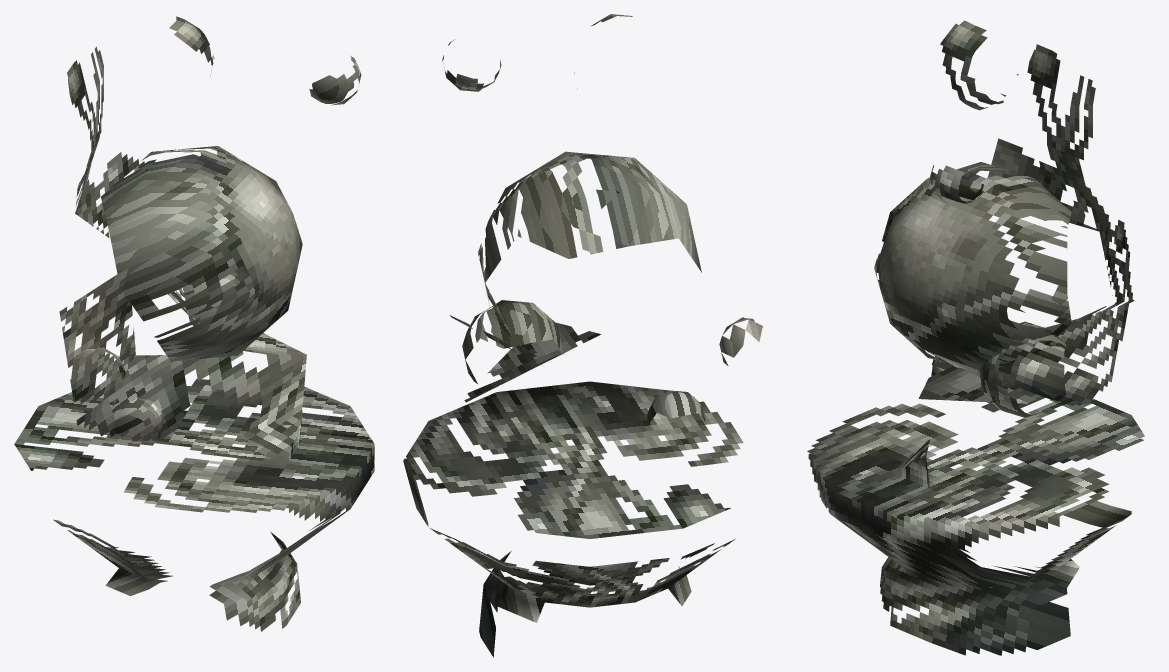
File: WaveYog.glb
3 views of the same model, side by side, from view 1: azimuth 30°, elevation 25°; view 2: azimuth 150°, elevation 25°; view 3: azimuth 270°, elevation 25° (orthographic). The views are drawn at different scales.
Visible parts, largest first — view 1: 2DBG_Statue_Yogsotos; view 2: 2DBG_Statue_Yogsotos; view 3: 2DBG_Statue_Yogsotos.
Boxes of the visible parts, x1,y1,x2,y2 form: 2DBG_Statue_Yogsotos: (14,16,374,631); 2DBG_Statue_Yogsotos: (403,14,763,657); 2DBG_Statue_Yogsotos: (807,20,1144,655).
Size of the model in its own units: 1.23 by 2.25 by 1.22.
Materials: 1 (1 with a texture image).
